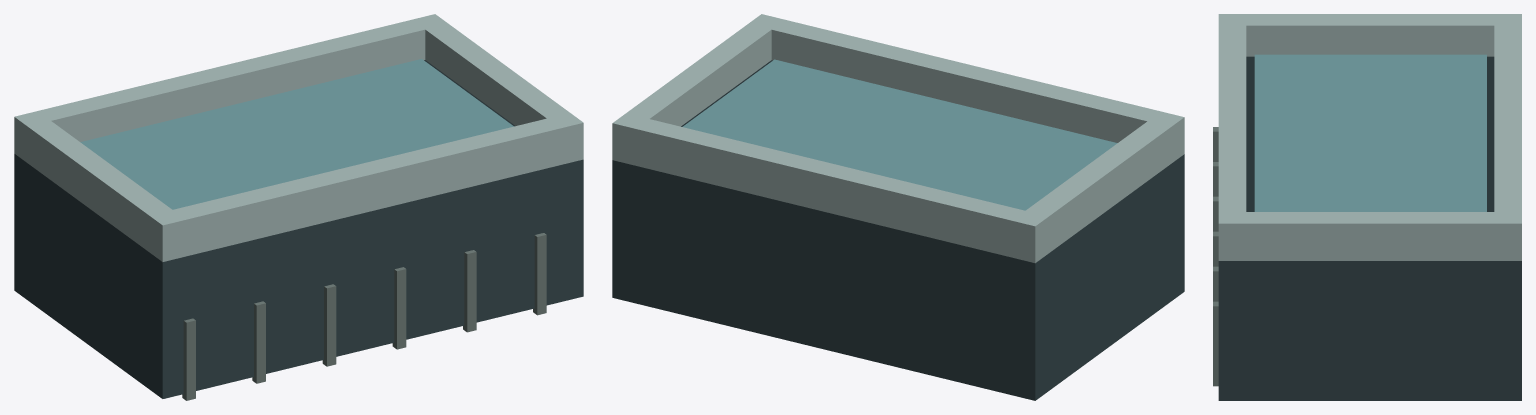
Rendered from CMU3DHydroponicsTray.glb.
3 views of the same model, side by side, from view 1: azimuth 30°, elevation 25°; view 2: azimuth 150°, elevation 25°; view 3: azimuth 270°, elevation 25° (orthographic). The views are drawn at different scales.
Visible parts, largest first — view 1: hydroponics basin body, silver basin rim (×2), water bed, silver basin side (×2), front stand ribs (×6); view 2: hydroponics basin body, silver basin rim (×2), water bed, silver basin side (×2); view 3: hydroponics basin body, water bed, silver basin side (×2), silver basin rim (×2), dark basin inset, front stand ribs.
Boxes of the visible parts, left/top/right/bottom form: hydroponics basin body: left=14, top=154, right=583, bottom=398; silver basin rim (×2): left=38, top=19, right=560, bottom=256; water bed: left=80, top=59, right=513, bottom=209; silver basin side (×2): left=14, top=14, right=583, bottom=261; front stand ribs (×6): left=182, top=233, right=546, bottom=400; hydroponics basin body: left=612, top=154, right=1184, bottom=400; silver basin rim (×2): left=636, top=19, right=1160, bottom=257; water bed: left=682, top=59, right=1117, bottom=210; silver basin side (×2): left=612, top=14, right=1184, bottom=263; hydroponics basin body: left=1218, top=261, right=1521, bottom=400; water bed: left=1254, top=54, right=1486, bottom=211; silver basin side (×2): left=1218, top=14, right=1521, bottom=260; silver basin rim (×2): left=1218, top=25, right=1521, bottom=211; dark basin inset: left=1246, top=56, right=1494, bottom=211; front stand ribs: left=1213, top=301, right=1218, bottom=386.
Size of the model in its own units: 0.9 by 0.365 by 0.56.
